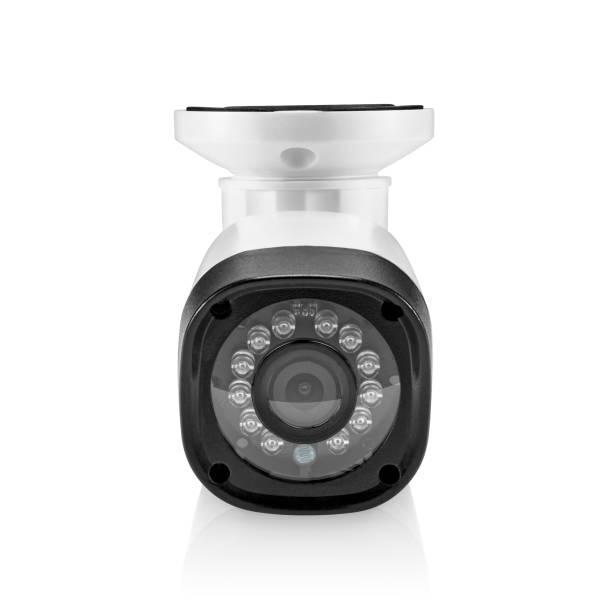camera: (145, 82, 468, 545)
